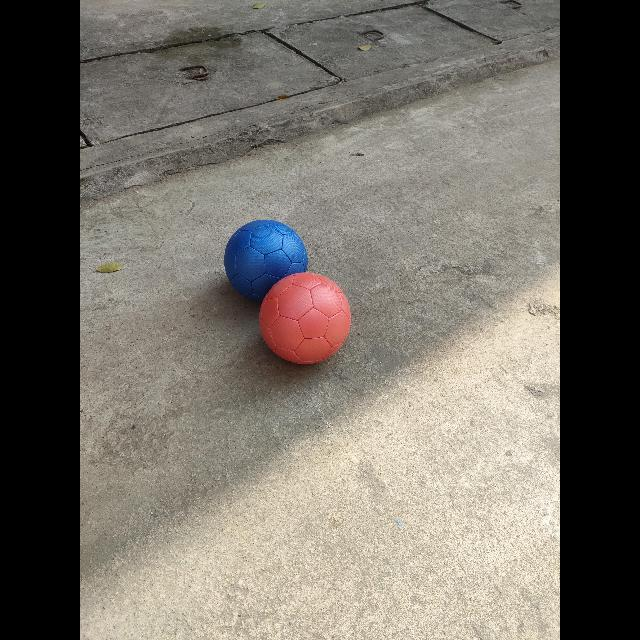B: (224, 220, 308, 301)
R: (260, 272, 350, 364)
